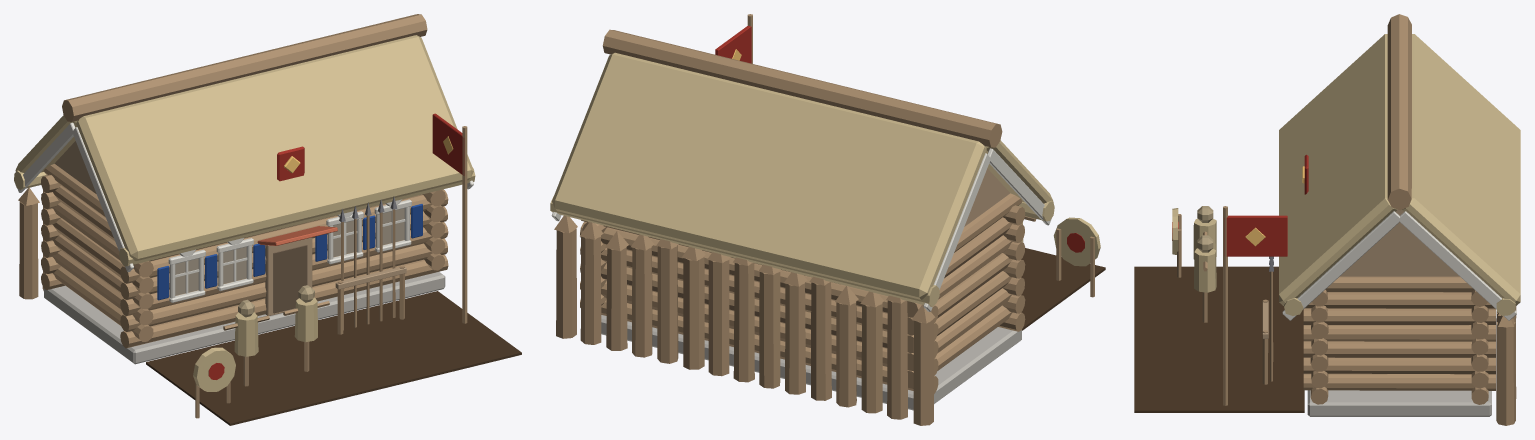
Rendered from bld_kazarma.glb.
The picture shows the model from 3 angles, left to right: view 1: azimuth 30°, elevation 25°; view 2: azimuth 150°, elevation 25°; view 3: azimuth 270°, elevation 25°; orthographic projection. The views are drawn at different scales.
Parts seen in each view (by area): view 1: kazarma; view 2: kazarma; view 3: kazarma.
Boxes of the visible parts, x1,y1,x2,y2 form: kazarma: (14, 14, 521, 425); kazarma: (550, 14, 1105, 425); kazarma: (1134, 14, 1520, 425).
Bounding box in the file's own units: 2.06 × 1.35 × 1.93.
